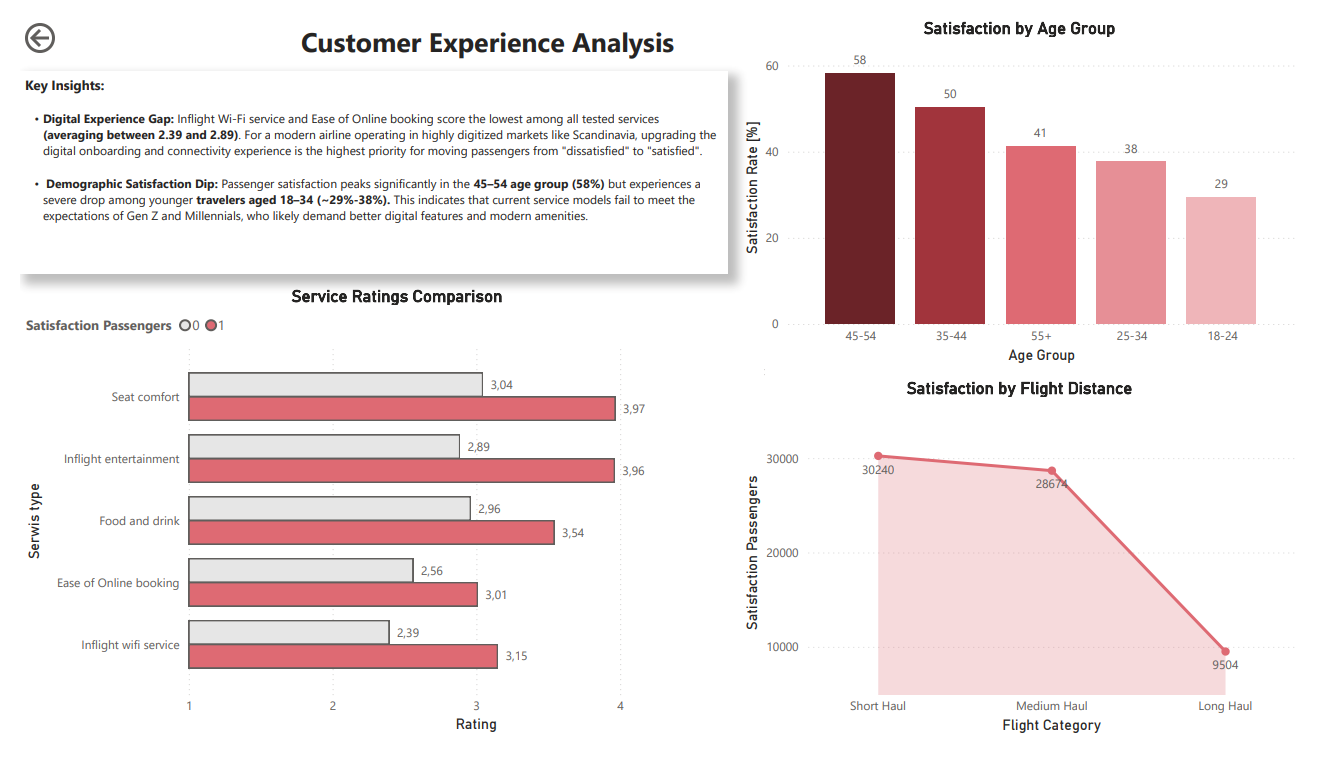

This screenshot's page, from the dashboard's own definition file:
{"tool":"powerbi","page":{"name":"Strona 2","canvas":[1280,720],"ordinal":1},"visuals":[{"type":"textbox","box":[276.2,0,655,53.8],"z":0},{"type":"clusteredBarChart","title":"Service Ratings Comparison","fields":{"Category":["test.Atrybut"],"Y":["Avg(test.Wartość)"],"Series":["test.Satisfaction_pasangers"]},"box":[1.2,267.5,751.2,451.2],"z":1000},{"type":"clusteredColumnChart","title":"Satisfaction by Age Group","fields":{"Category":["test.Age Group"],"Y":["test.Satisfaction Rate"]},"box":[718.8,0,561.2,350],"z":2000},{"type":"stackedAreaChart","title":"Satisfaction by Flight Distance","fields":{"Category":["test.Flight Category"],"Y":["Sum(test.Satisfaction Passengers)"]},"box":[718.8,360,561.2,360],"z":3000},{"type":"actionButton","box":[0,0,100,40],"z":4000},{"type":"textbox","box":[0,52.5,707.5,203.8],"z":5000}]}

Visuals, with their boxes in screenshot pixels (x1, y1, x2, y2), scaled from the page's 1280x720 canvas onto the 1317x757 screenshot:
textbox: [left=284, top=0, right=958, bottom=57]
"Service Ratings Comparison" clusteredBarChart: [left=1, top=281, right=774, bottom=756]
"Satisfaction by Age Group" clusteredColumnChart: [left=740, top=0, right=1316, bottom=368]
"Satisfaction by Flight Distance" stackedAreaChart: [left=740, top=378, right=1316, bottom=756]
actionButton: [left=0, top=0, right=103, bottom=42]
textbox: [left=0, top=55, right=728, bottom=269]
